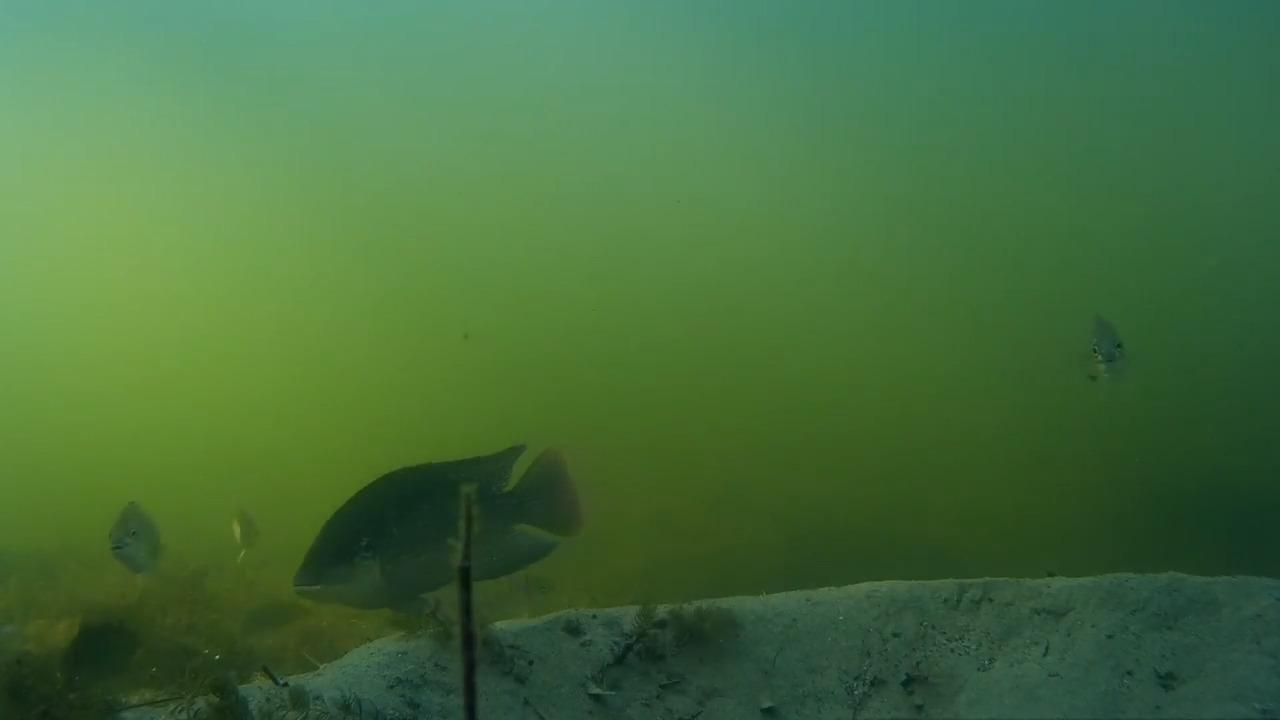Tilapia: (292, 435, 604, 617), (101, 502, 186, 584), (1062, 316, 1129, 406)
